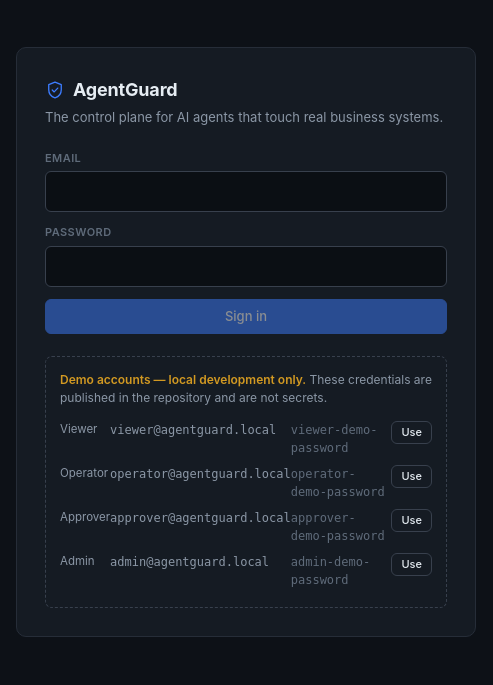
Scenario: authentication › shows a safe message when the credentials are wrong
The image size is (493, 685).
Type "admin@agentguard.local" into the field labelled "Email" at (246, 192), box x1=45 y1=171 x2=447 y2=212
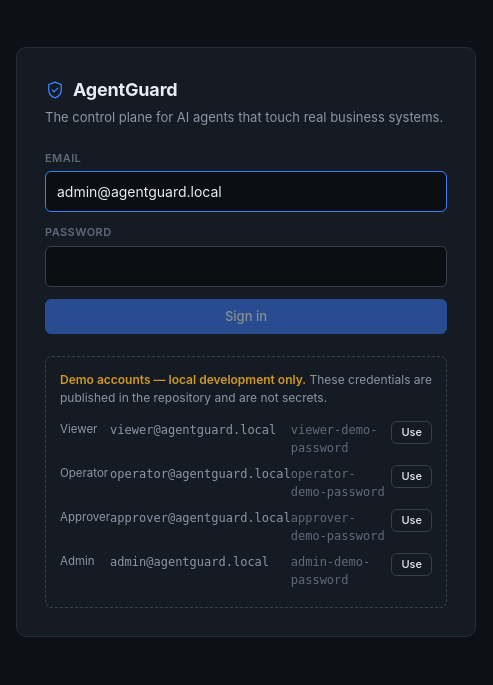
Type "wrong" into the password field labelled "Password" at (246, 266), box x1=45 y1=246 x2=447 y2=286
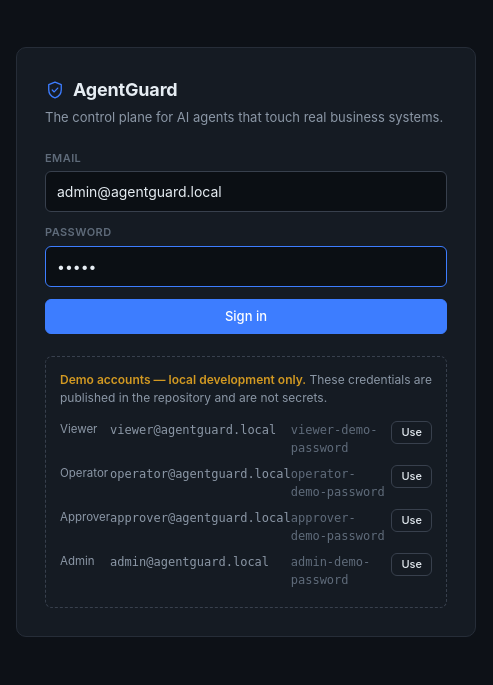
Click the button "Sign in" at (246, 316), box x1=45 y1=298 x2=447 y2=334
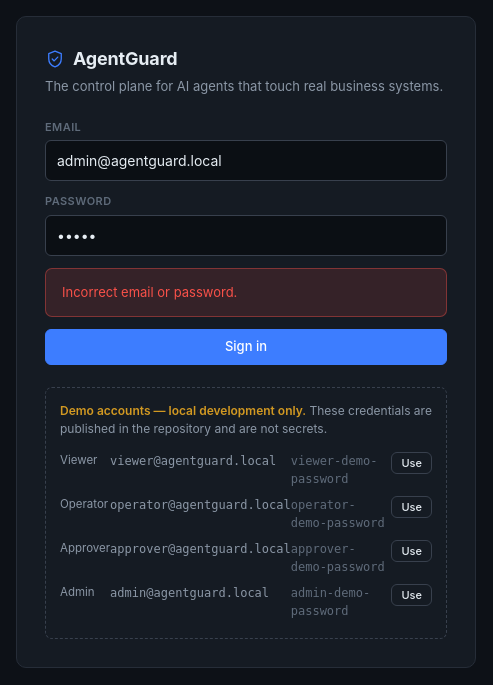
Now the message reads "Incorrect email or password.", box x1=62 y1=284 x2=237 y2=300
